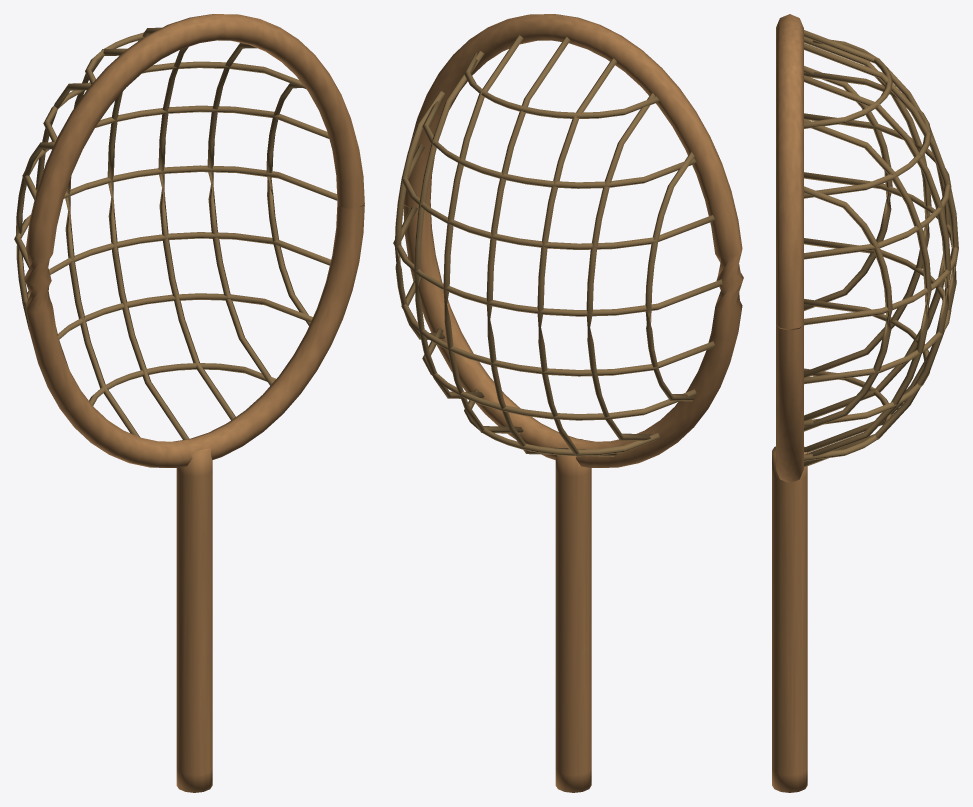
File: landing_net.fbx
The picture shows the model from 3 angles, left to right: view 1: azimuth 30°, elevation 25°; view 2: azimuth 150°, elevation 25°; view 3: azimuth 270°, elevation 25°; orthographic projection.
Visible parts, largest first — view 1: landing_net.002; view 2: landing_net.002; view 3: landing_net.002.
Boxes of the visible parts, <box> form: landing_net.002: <box>14,14,364,792</box>; landing_net.002: <box>393,14,743,792</box>; landing_net.002: <box>772,14,958,792</box>.
Size of the model in its own units: 0.302 by 0.656 by 0.1468.
1 material, 1 textured.
